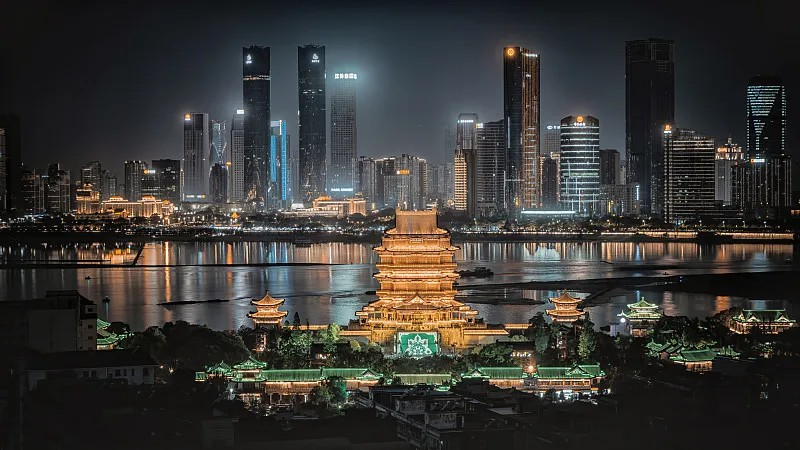Teng: (355, 210, 479, 329)
